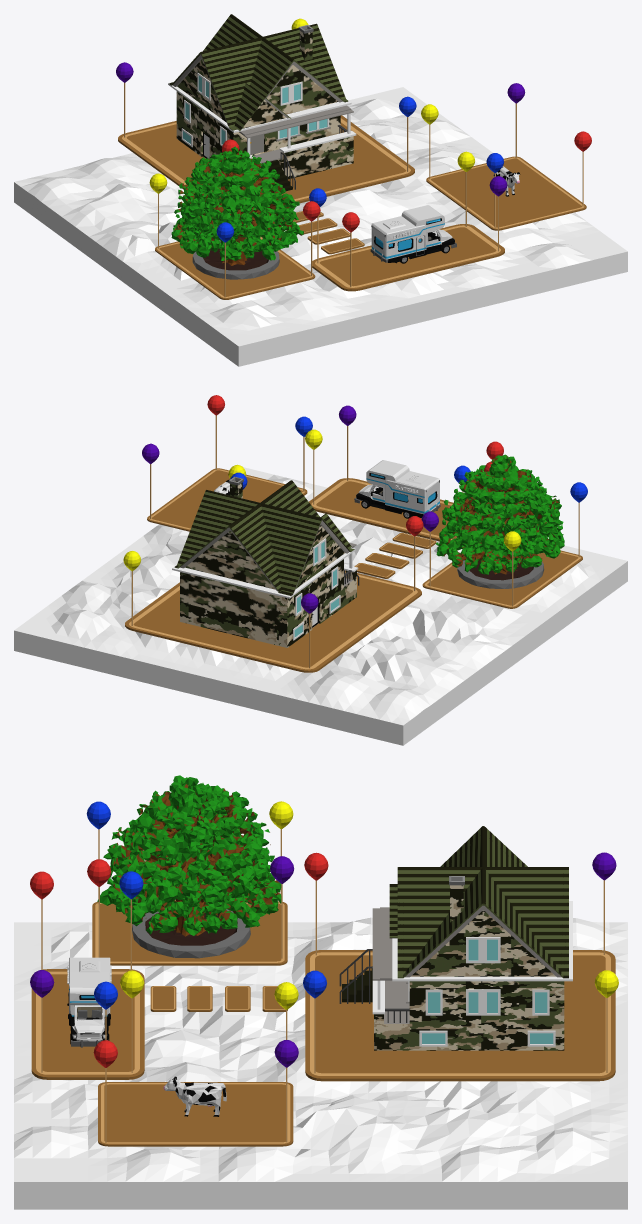
3 renders of one model, top to bottom at view 1: azimuth 30°, elevation 25°; view 2: azimuth 150°, elevation 25°; view 3: azimuth 270°, elevation 25°, orthographic. The views are drawn at different scales.
Visible parts, largest first — view 1: Cube.013, Cube.001, OBJRANDOM_CEIBA, VEHICLES_CAMPER; view 2: Cube.013, Cube.001, OBJRANDOM_CEIBA, VEHICLES_CAMPER; view 3: Cube.013, Cube.001, OBJRANDOM_CEIBA, VEHICLES_CAMPER, ANIMAL_VACA.
Part boxes in pixels (x1,y1,x2,y2): Cube.013: (14, 18, 627, 366); Cube.001: (168, 14, 356, 191); OBJRANDOM_CEIBA: (171, 146, 303, 279); VEHICLES_CAMPER: (370, 205, 456, 263); Cube.013: (14, 395, 627, 745); Cube.001: (172, 476, 359, 647); OBJRANDOM_CEIBA: (435, 454, 564, 588); VEHICLES_CAMPER: (354, 460, 440, 518); Cube.013: (14, 801, 627, 1209); Cube.001: (339, 826, 572, 1050); OBJRANDOM_CEIBA: (97, 775, 281, 958); VEHICLES_CAMPER: (67, 957, 111, 1047); ANIMAL_VACA: (163, 1076, 226, 1116).
Bounding box in the file's own units: 4000 × 1641 × 4000.
33 materials, 4 textured.
